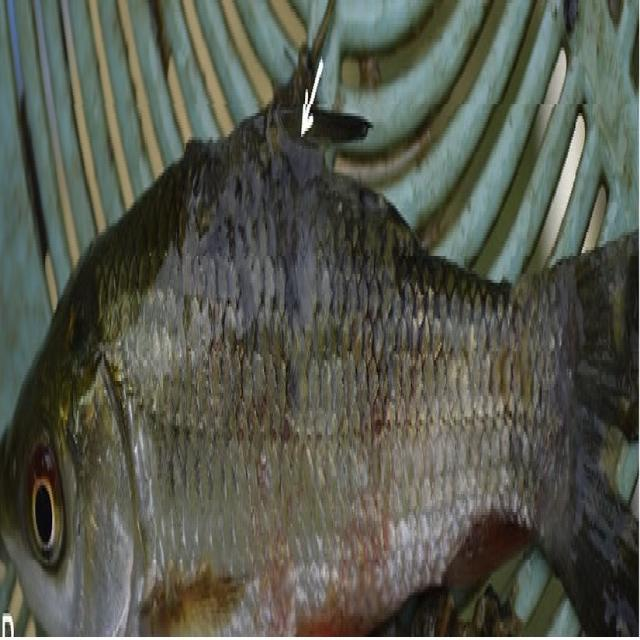EUS Disease: (1, 53, 639, 640), (197, 35, 418, 640)
